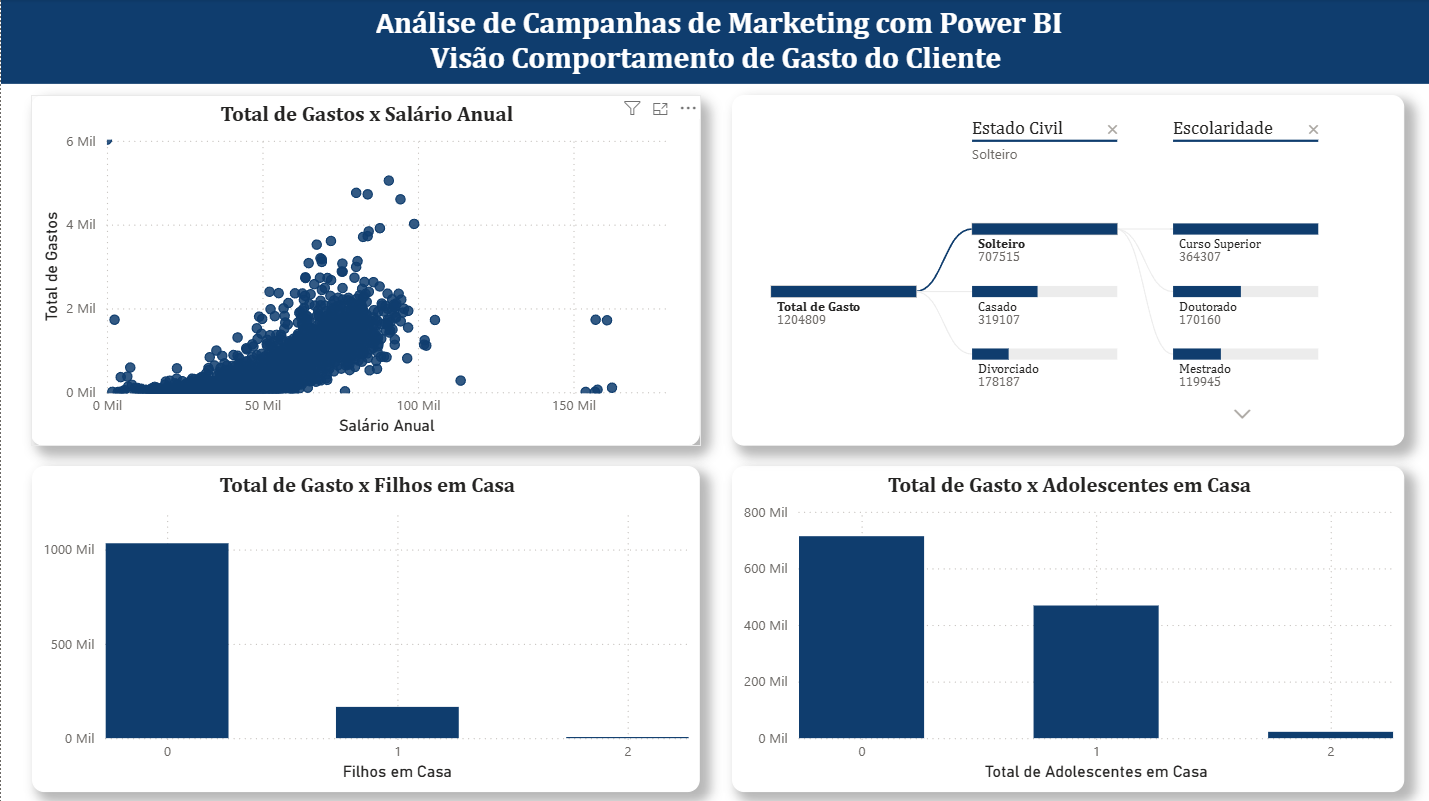

What the dashboard file says about the page in this screenshot:
{"tool":"powerbi","page":{"name":"Visão Comportamento","canvas":[1280,720],"ordinal":1},"visuals":[{"type":"scatterChart","title":"Total de Gastos x Salário Anual","fields":{"X":["DadosMarketing.Salario Anual"],"Y":["DadosMarketing.TotalGasto"]},"box":[27.1,86,599.3,314.2],"z":0},{"type":"textbox","box":[0,0,1280,76],"z":1000},{"type":"clusteredColumnChart","title":"Total de Gasto x Filhos em Casa","fields":{"Y":["DadosMarketing.TotalGasto"],"Category":["DadosMarketing.Filhos em Casa"]},"box":[28,417.9,598.4,291.7],"z":2000},{"type":"clusteredColumnChart","title":"Total de Gasto x Adolescentes em Casa","fields":{"Y":["DadosMarketing.TotalGasto"],"Category":["DadosMarketing.Adolescentes em Casa"]},"box":[654.5,417.9,602.1,291.7],"z":3000},{"type":"decompositionTreeVisual","fields":{"ExplainBy":["DadosMarketing.Estado Civil","DadosMarketing.Escolaridade"],"Analyze":["DadosMarketing.TotalGasto"]},"box":[654.5,86,602.1,314.2],"z":4000}]}

Visuals, with their boxes in screenshot pixels (x1, y1, x2, y2), scaled from the page's 1280x720 canvas onto the 1429x801 screenshot:
"Total de Gastos x Salário Anual" scatterChart: bbox(30, 96, 699, 445)
textbox: bbox(0, 0, 1428, 85)
"Total de Gasto x Filhos em Casa" clusteredColumnChart: bbox(31, 465, 699, 789)
"Total de Gasto x Adolescentes em Casa" clusteredColumnChart: bbox(731, 465, 1403, 789)
decompositionTreeVisual - DadosMarketing.Estado Civil x DadosMarketing.Escolaridade: bbox(731, 96, 1403, 445)
